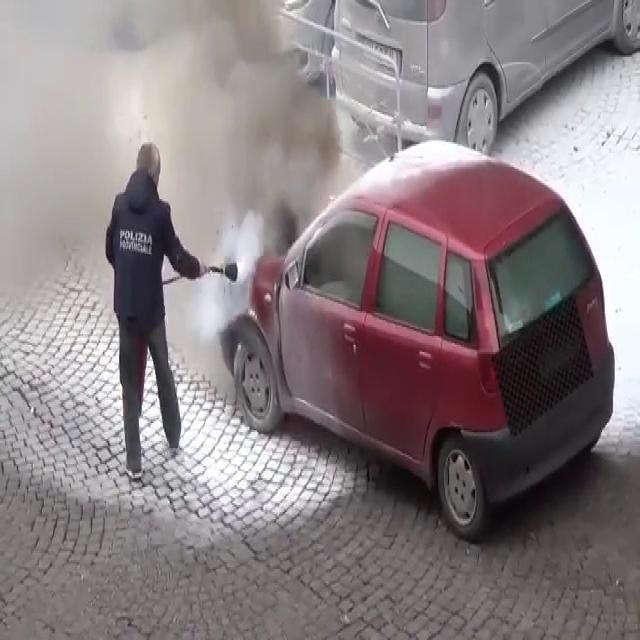Smoke: (0, 0, 359, 284)
